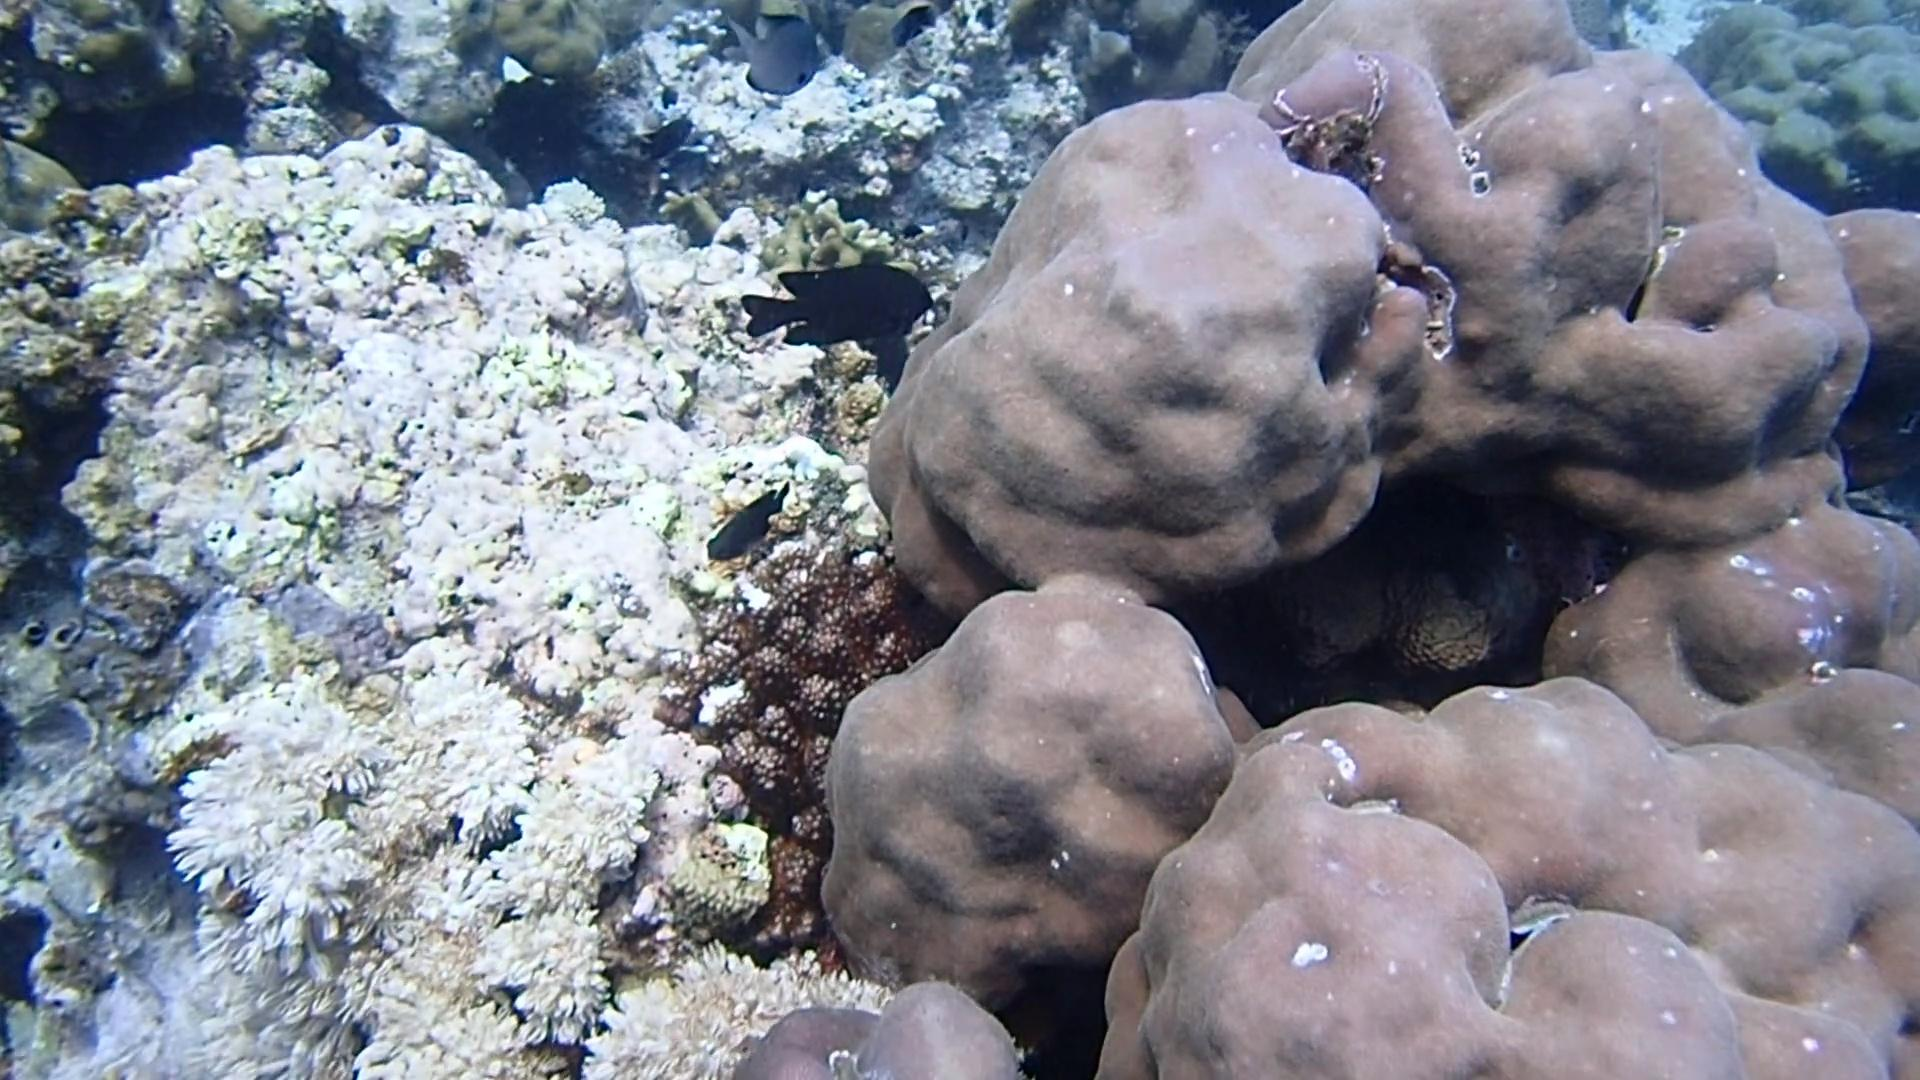Dark Fish: (729, 256, 942, 360), (703, 477, 793, 572), (632, 113, 698, 166), (889, 3, 943, 47)
Light Fish - Dark Fin: (720, 9, 832, 102)
